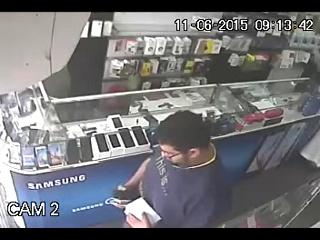shoplifting: (110, 110, 224, 227)
